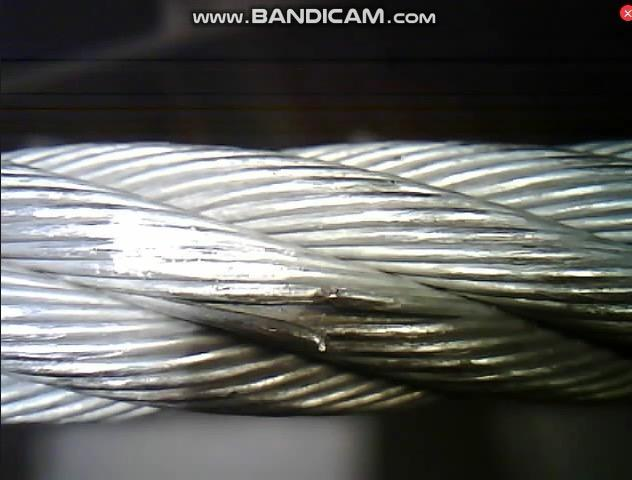break: (278, 283, 371, 362)
